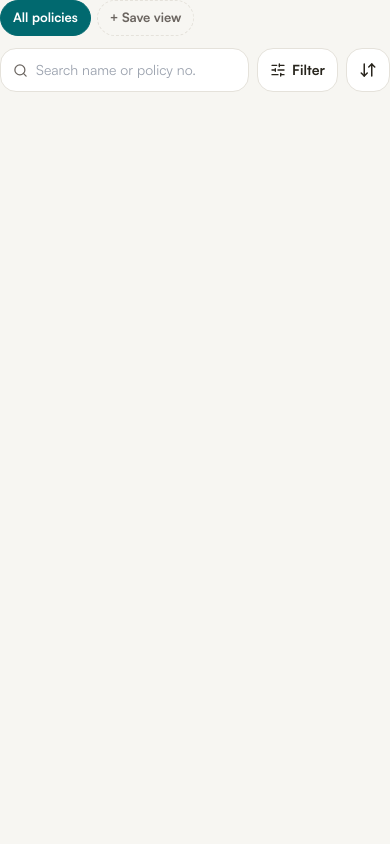
LedgerFilterSort — date boxes (FX item 1) › the mobile sheet also renders full-width date inputs once opened
The width and height of the screenshot is (390, 844).
Click the button with test id "ledger-filter-sheet-trigger": (298, 70) [257,48,338,92]
(page scrolled)
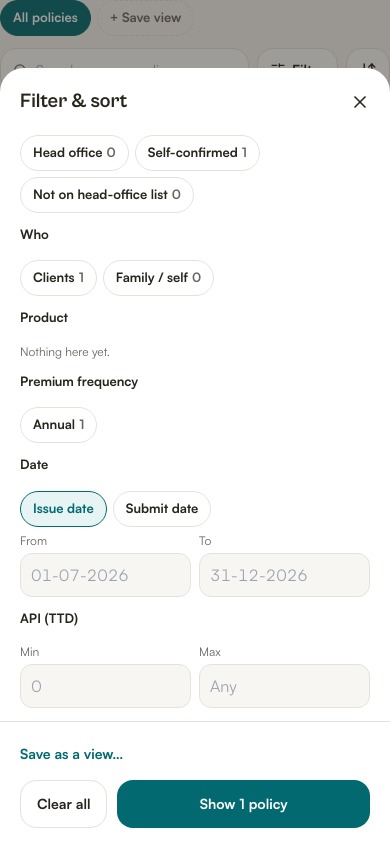
Check: the field with test id "ledger-filter-date-from" is shown, box [20,552,191,596]
